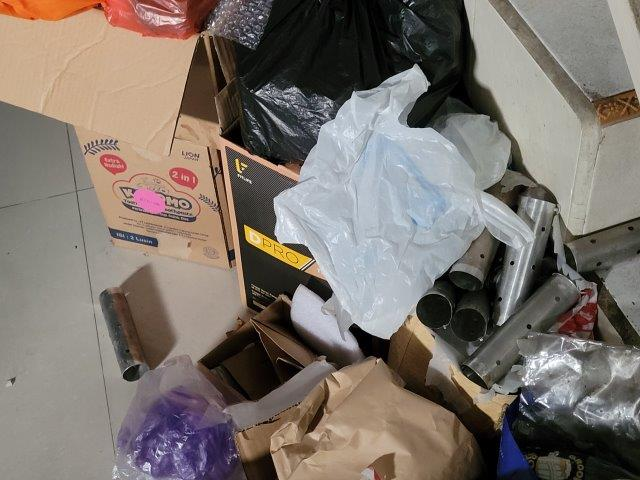kardus: (2, 12, 234, 268), (222, 145, 338, 334), (187, 313, 330, 452)
plastik: (285, 66, 530, 324), (229, 1, 469, 147), (108, 364, 246, 480)
